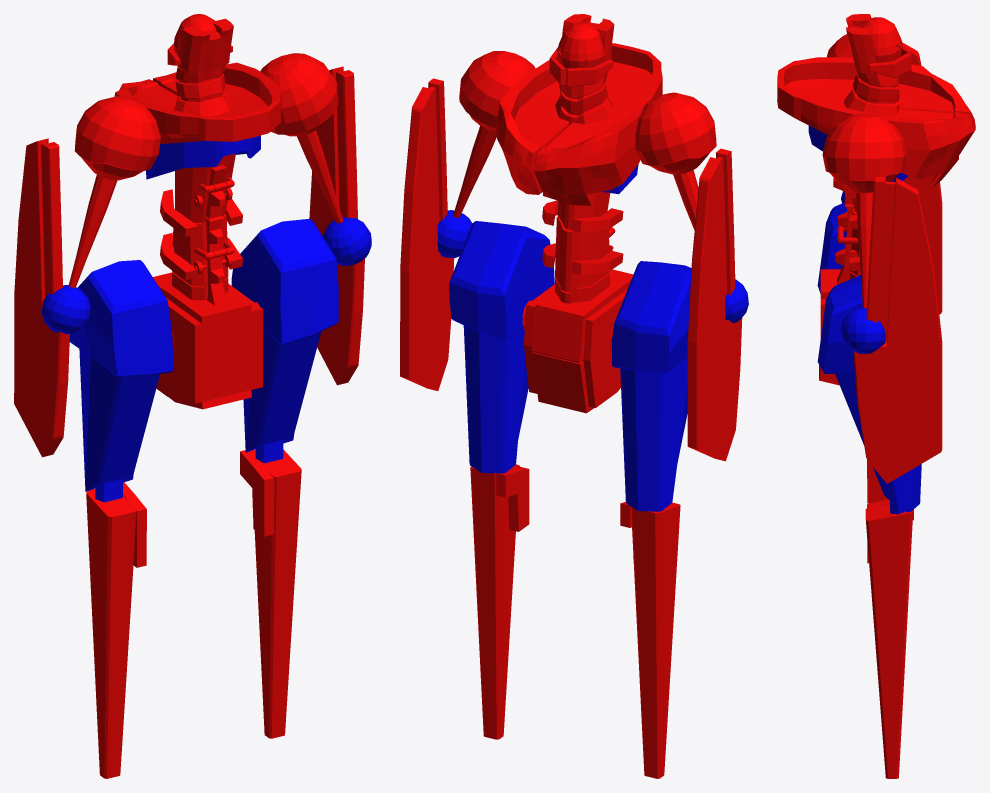
The model's file is Eric_Cuanalo.FBX.
3 views of the same model, side by side, from view 1: azimuth 30°, elevation 25°; view 2: azimuth 150°, elevation 25°; view 3: azimuth 270°, elevation 25° (orthographic). The views are drawn at different scales.
Parts seen in each view (by area): view 1: Robot; view 2: Robot; view 3: Robot.
Boxes of the visible parts, <box> form: Robot: <box>14,14,371,778</box>; Robot: <box>400,14,748,778</box>; Robot: <box>777,14,975,778</box>.
Bounding box in the file's own units: 106 × 233 × 58.41.
